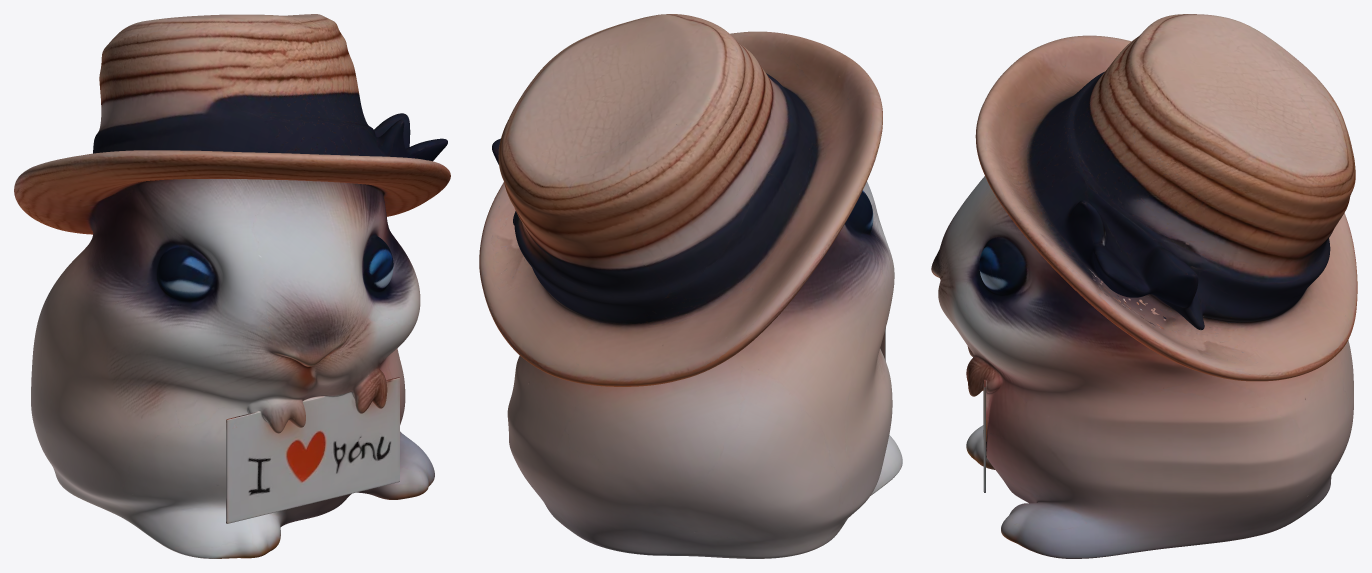
The model's file is nastya.glb.
The picture shows the model from 3 angles, left to right: view 1: azimuth 30°, elevation 25°; view 2: azimuth 150°, elevation 25°; view 3: azimuth 270°, elevation 25°; orthographic projection. The views are drawn at different scales.
Visible parts, largest first — view 1: texture_pbr_v128; view 2: texture_pbr_v128; view 3: texture_pbr_v128.
Part boxes in pixels (x1=…): texture_pbr_v128: x1=14, y1=14, x2=450, y2=558; texture_pbr_v128: x1=479, y1=14, x2=902, y2=558; texture_pbr_v128: x1=931, y1=14, x2=1357, y2=558.
Size of the model in its own units: 0.7816 by 0.9276 by 0.7775.
Materials: 1 (1 with a texture image).
